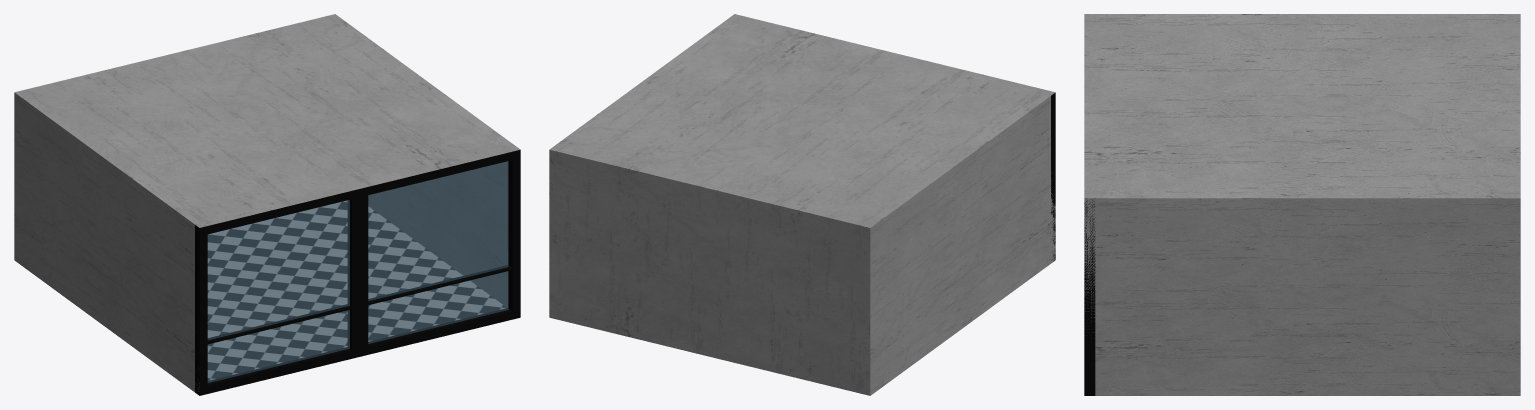
Rendered from window - Copia (2).glb.
The picture shows the model from 3 angles, left to right: view 1: azimuth 30°, elevation 25°; view 2: azimuth 150°, elevation 25°; view 3: azimuth 270°, elevation 25°; orthographic projection. The views are drawn at different scales.
Visible parts, largest first — view 1: Plane, room_light, vidro.001, vidro, Cube.005; view 2: Plane, room_light, Cube.005; view 3: Plane, room_light, Cube.005.
Part boxes in pixels (box(x1,y1,x2,y2)): Plane: box(14, 92, 507, 392); room_light: box(15, 14, 519, 227); vidro.001: box(207, 200, 349, 382); vidro: box(368, 161, 508, 343); Cube.005: box(195, 149, 520, 395); Plane: box(549, 96, 1055, 395); room_light: box(550, 14, 1054, 227); Cube.005: box(1051, 92, 1055, 261); Plane: box(1084, 198, 1520, 395); room_light: box(1084, 14, 1520, 198); Cube.005: box(1084, 198, 1095, 395).
Size of the model in its own units: 4 by 2 by 4.
Materials: 5 (4 with a texture image).
